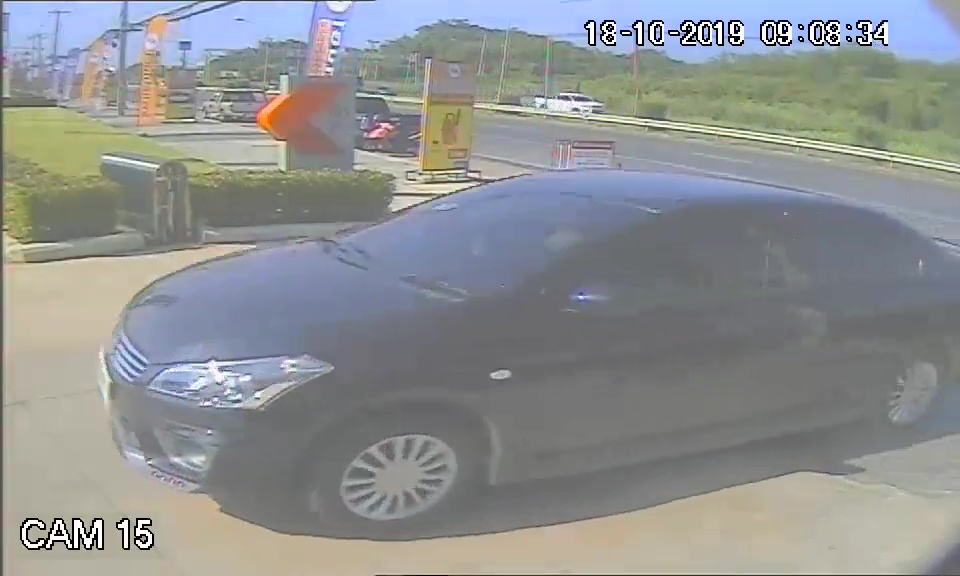sedan: (91, 165, 933, 526)
